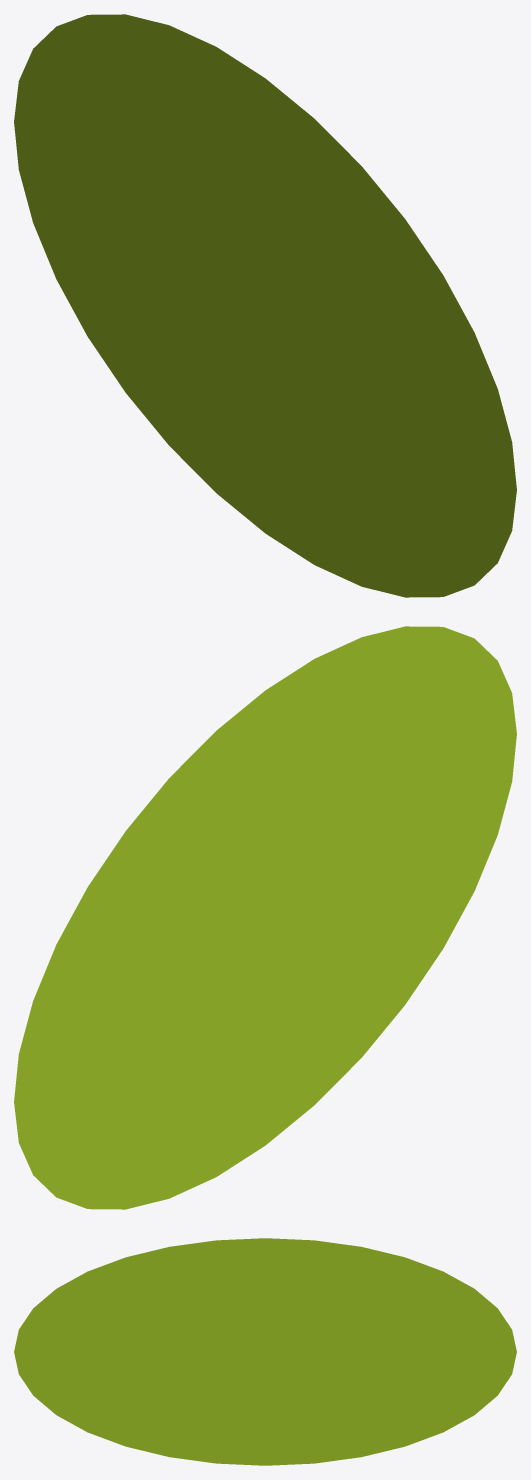
The model's file is Reklama.fbx.
3 views of the same model, one above another, from view 1: azimuth 30°, elevation 25°; view 2: azimuth 150°, elevation 25°; view 3: azimuth 270°, elevation 25° (orthographic). The views are drawn at different scales.
Visible parts, largest first — view 1: Circle.001; view 2: Circle.001; view 3: Circle.001.
Part boxes in pixels (bbox=[...]): Circle.001: bbox=[14, 14, 516, 597]; Circle.001: bbox=[14, 626, 516, 1209]; Circle.001: bbox=[14, 1238, 516, 1465].
Size of the model in its own units: 1.18e-05 by 35.21 by 70.52.
